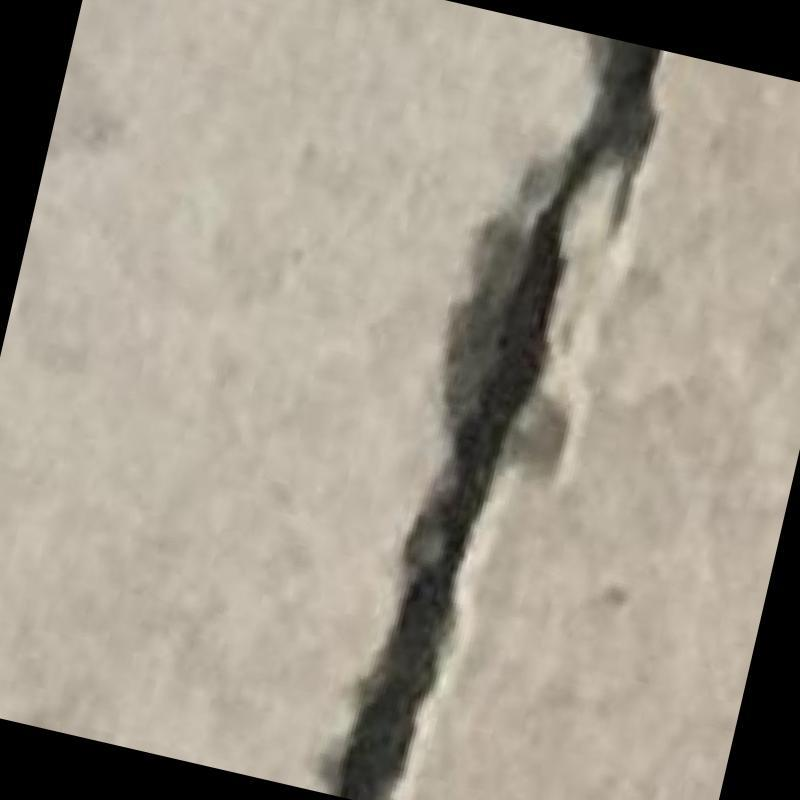pothole: (321, 34, 660, 800)
